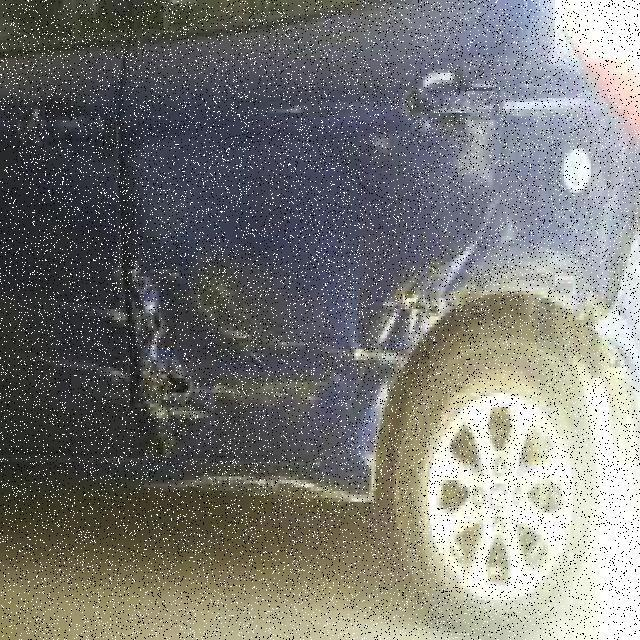car damage: (130, 22, 435, 462), (0, 51, 126, 463), (475, 51, 623, 389)
